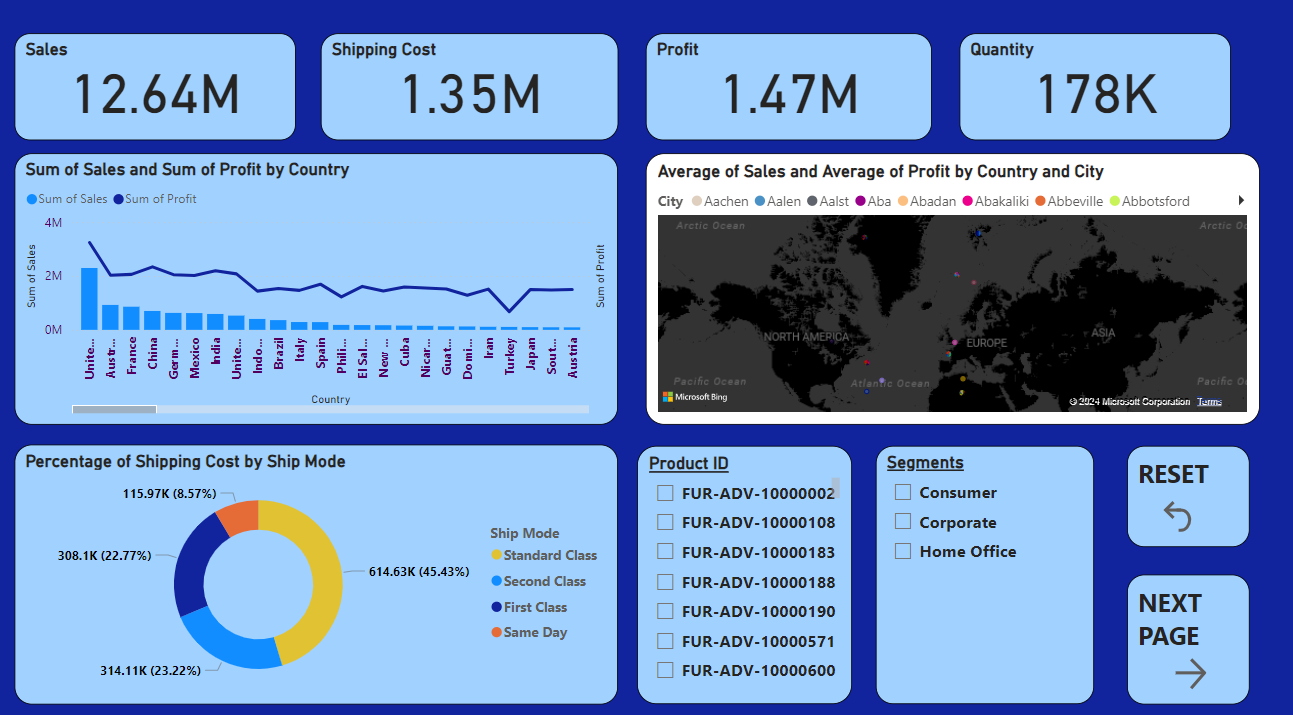

The page's visual inventory and layout, read from the dashboard file:
{"tool":"powerbi","page":{"name":"Page 1","canvas":[1280,720],"ordinal":0},"visuals":[{"type":"card","title":"Sales","fields":{"Values":["Sum(Orders.Sales)"]},"box":[22,50.1,275.1,105.2],"z":0},{"type":"card","title":"Shipping Cost","fields":{"Values":["Sum(Orders.Shipping Cost)"]},"box":[321.6,50.1,291,105.2],"z":1},{"type":"card","title":"Profit","fields":{"Values":["Sum(Orders.Profit)"]},"box":[639.5,50.1,280,105.2],"z":2},{"type":"card","title":"Quantity","fields":{"Values":["Sum(Orders.Quantity)"]},"box":[946.5,50.1,265.4,105.2],"z":3},{"type":"lineStackedColumnComboChart","fields":{"Y2":["Sum(Orders.Profit)"],"Y":["Sum(Orders.Sales)"],"Category":["Orders.Country"]},"box":[22,167.5,590.6,265.4],"z":4},{"type":"map","fields":{"Category":["Orders.Country"],"Series":["Orders.City"],"X":["Avg(Orders.Profit)"],"Y":["Avg(Orders.Sales)"]},"box":[639.5,167.5,600.4,265.4],"z":5},{"type":"donutChart","title":"Percentage of Shipping Cost by Ship Mode","fields":{"Y":["Sum(Orders.Shipping Cost)"],"Category":["Orders.Ship Mode"]},"box":[22,452.4,590.6,254.3],"z":6},{"type":"slicer","title":"Product ID","fields":{"Values":["Orders.Product ID"]},"box":[631,453.7,210.3,253.1],"z":7},{"type":"slicer","title":"Segments","fields":{"Values":["Orders.Segment"]},"box":[864.5,453.7,214,253.1],"z":8},{"type":"textbox","box":[1110.3,453.7,119.8,99],"z":9},{"type":"textbox","box":[1110.3,579.6,119.8,127.2],"z":10},{"type":"actionButton","box":[1139.7,502.6,100.3,40.4],"z":11},{"type":"actionButton","box":[1151.9,656.7,100.3,40.4],"z":12}]}

Visuals, with their boxes in screenshot pixels (x1, y1, x2, y2), scaled from the page's 1280x720 canvas onto the 1293x715 screenshot:
"Sales" card: [x1=22, y1=50, x2=300, y2=154]
"Shipping Cost" card: [x1=325, y1=50, x2=619, y2=154]
"Profit" card: [x1=646, y1=50, x2=929, y2=154]
"Quantity" card: [x1=956, y1=50, x2=1224, y2=154]
lineStackedColumnComboChart - Sum(Orders.Profit) x Sum(Orders.Sales): [x1=22, y1=166, x2=619, y2=430]
map - Orders.Country x Orders.City: [x1=646, y1=166, x2=1252, y2=430]
"Percentage of Shipping Cost by Ship Mode" donutChart: [x1=22, y1=449, x2=619, y2=702]
"Product ID" slicer: [x1=637, y1=451, x2=850, y2=702]
"Segments" slicer: [x1=873, y1=451, x2=1089, y2=702]
textbox: [x1=1122, y1=451, x2=1243, y2=549]
textbox: [x1=1122, y1=576, x2=1243, y2=702]
actionButton: [x1=1151, y1=499, x2=1253, y2=539]
actionButton: [x1=1164, y1=652, x2=1265, y2=692]
